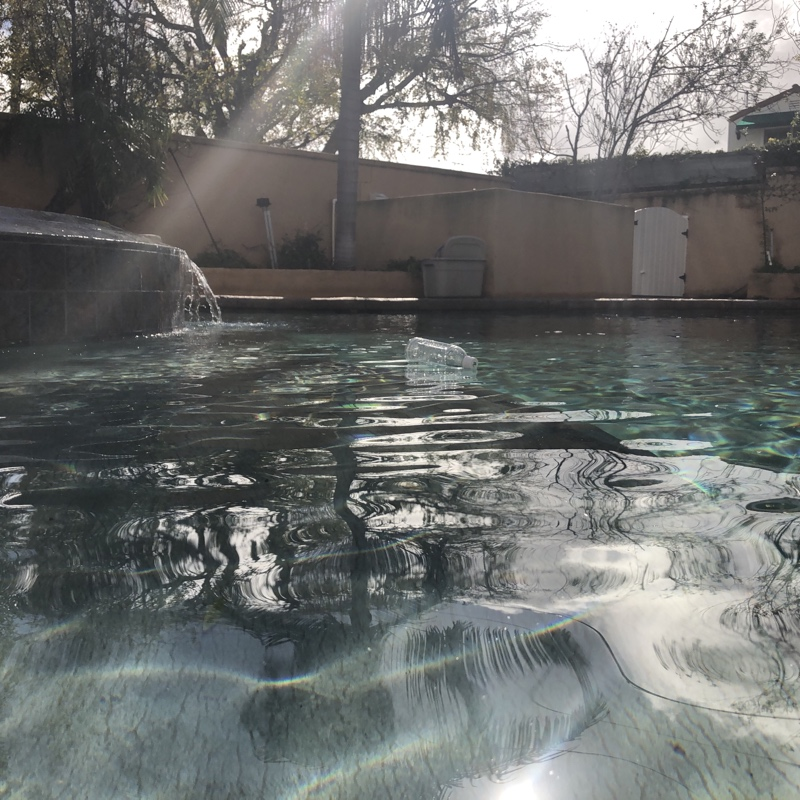Plastic Bottle: (405, 335, 481, 377)
